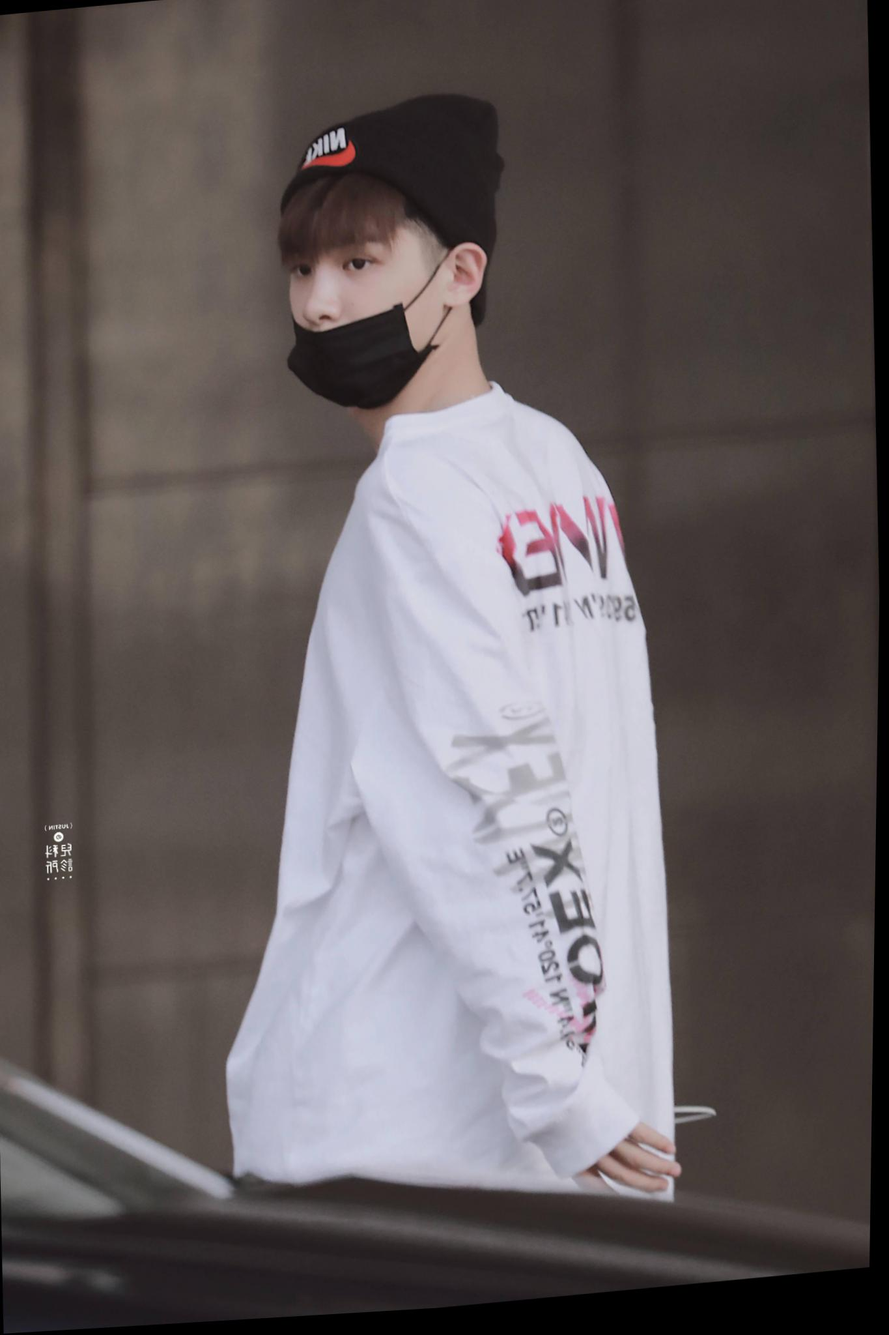WRONG: (281, 209, 428, 418)
